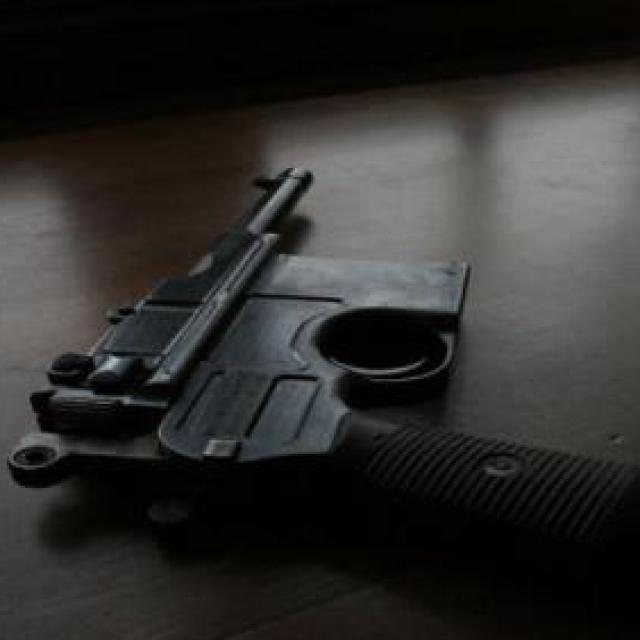pistol: (16, 161, 640, 599)
